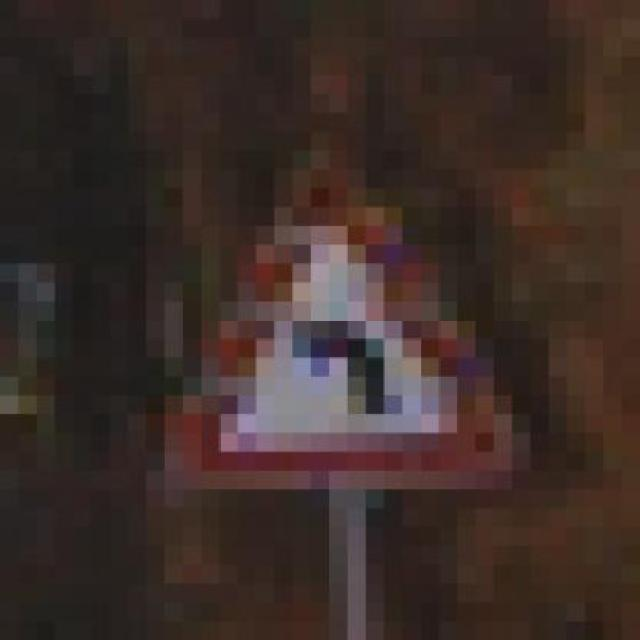Dangerous Left Curve Ahead: (128, 113, 549, 527)
